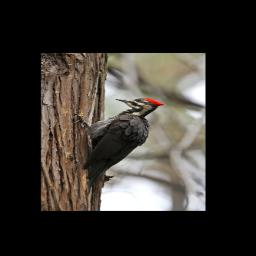Woodpecker: (73, 98, 166, 195)
